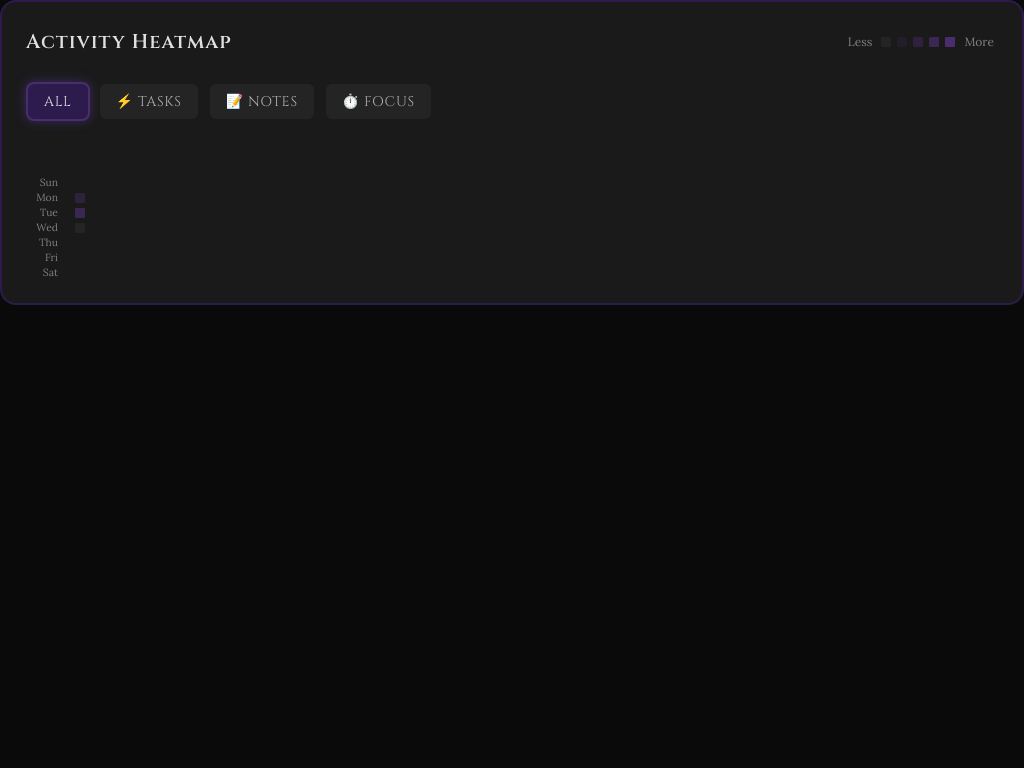
Scenario: ActivityHeatmap - Day Click Integration › should open modal when day is clicked
Click the cell named "Monday, January 1, 2024, medium activity. 3 tasks, 2 notes," at (80, 198), box top-left (74, 192), bottom-right (86, 204)
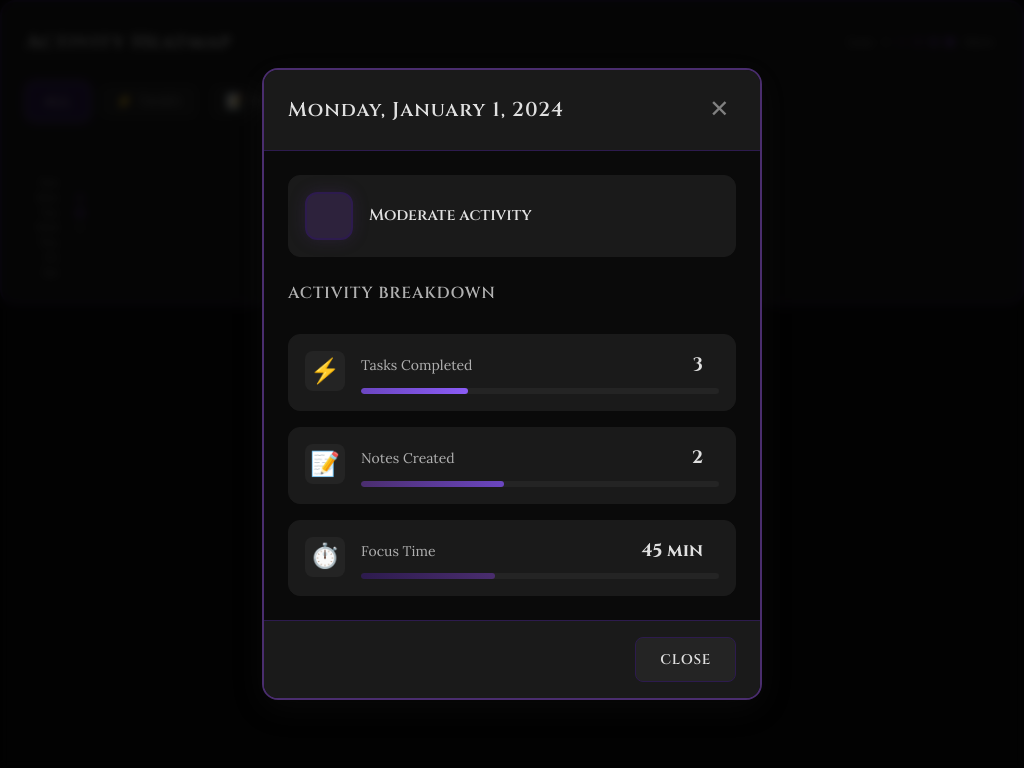
Check: the dialog is shown
Check: the heading "Activity Breakdown" is shown, box top-left (288, 282), bottom-right (496, 304)
Check: the text "3" is shown, box top-left (693, 351), bottom-right (703, 380)
